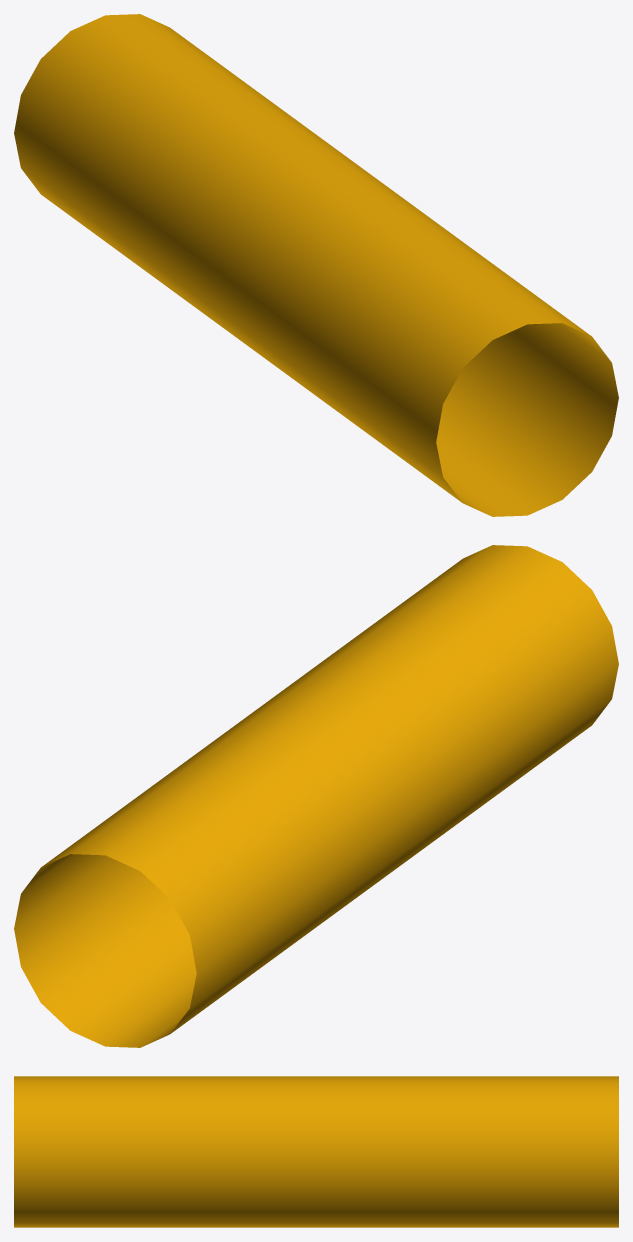
Rendered from mdl_pipe.fbx.
3 renders of one model, top to bottom at view 1: azimuth 30°, elevation 25°; view 2: azimuth 150°, elevation 25°; view 3: azimuth 270°, elevation 25°, orthographic. The views are drawn at different scales.
Parts seen in each view (by area): view 1: mesh_pipe; view 2: mesh_pipe; view 3: mesh_pipe.
Boxes of the visible parts, <box> form: mesh_pipe: <box>14,14,618,516</box>; mesh_pipe: <box>14,545,618,1047</box>; mesh_pipe: <box>14,1076,618,1227</box>.
Size of the model in its own units: 1 by 1 by 4.
